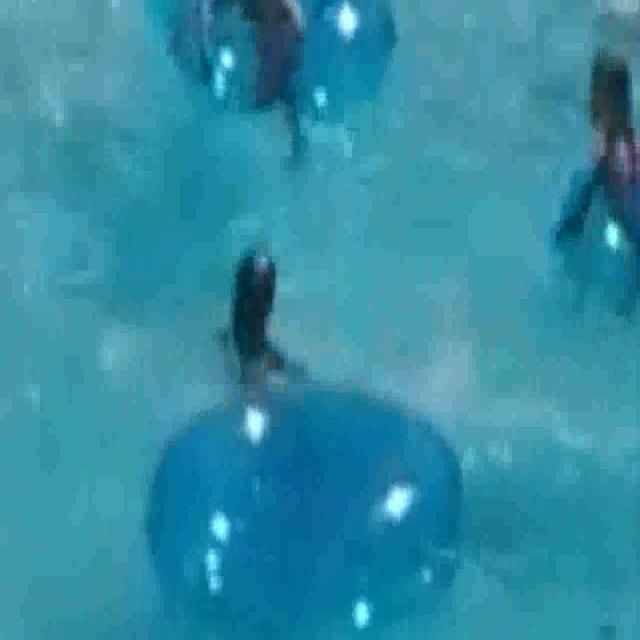drowning: (197, 255, 423, 421)
